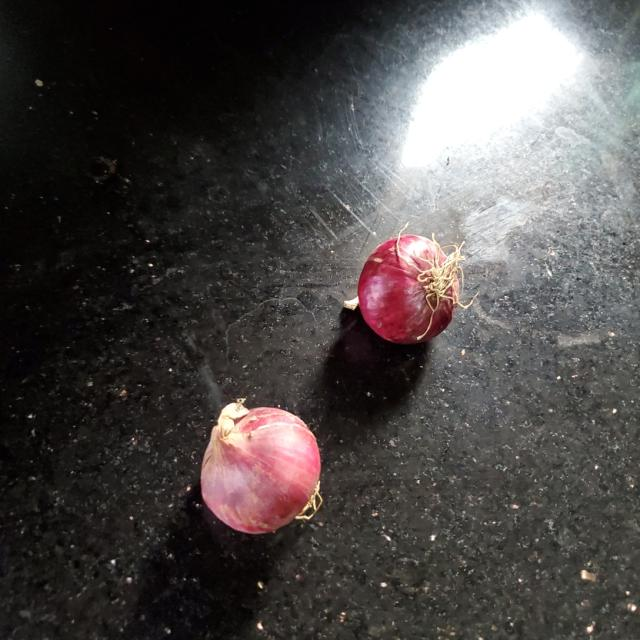onion: (202, 401, 323, 530), (345, 231, 461, 344)
